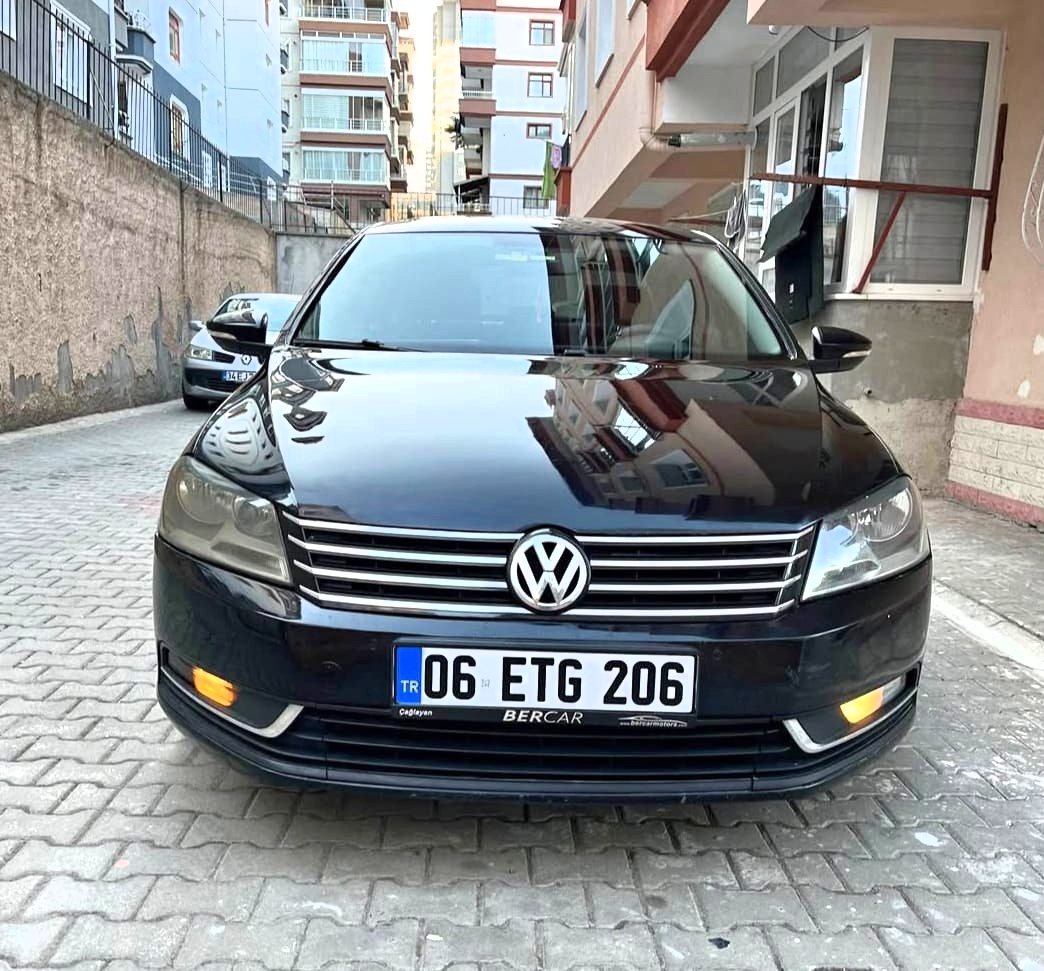plaka: (420, 635, 696, 715)
